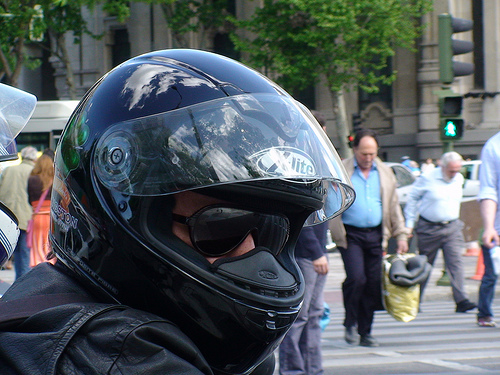helmet: (59, 67, 339, 330)
